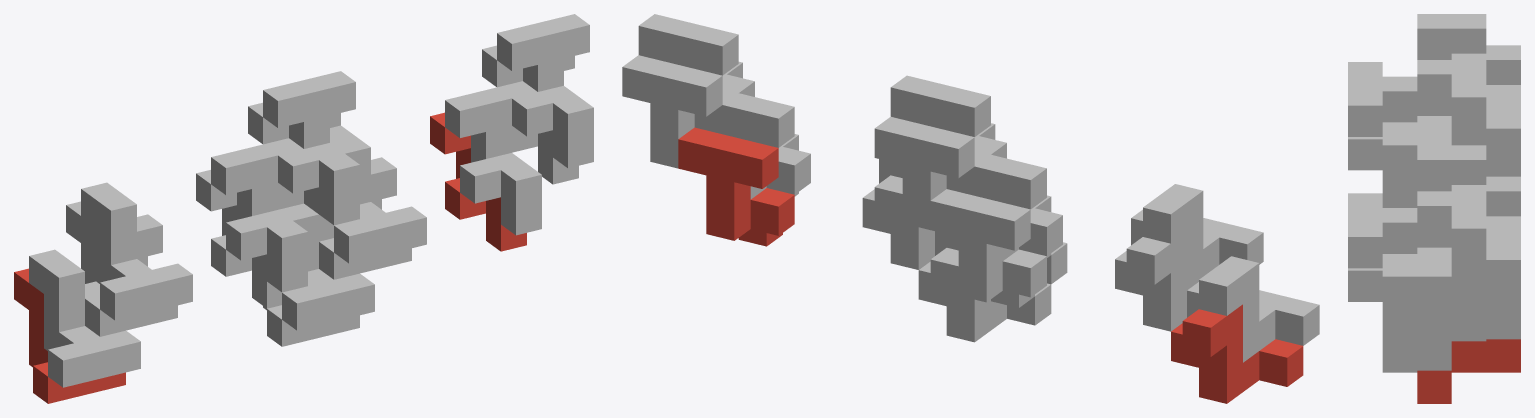
File: tiling.obj
The picture shows the model from 3 angles, left to right: view 1: azimuth 30°, elevation 25°; view 2: azimuth 150°, elevation 25°; view 3: azimuth 270°, elevation 25°; orthographic projection. The views are drawn at different scales.
Parts seen in each view (by area): view 1: copy_2_domain_8, copy_2_domain_4, copy_1_domain_4, copy_2_domain_2, copy_2_domain_6, copy_1_domain_2, copy_1_domain_8, copy_1_domain_6, copy_1_domain_1, copy_2_domain_5, copy_2_domain_1, copy_1_domain_3 (+4 smaller); view 2: copy_2_domain_5, copy_2_domain_1, copy_1_domain_1, copy_1_domain_2, copy_2_domain_3, copy_2_domain_7, copy_1_domain_4, copy_2_domain_2, copy_2_domain_6, copy_1_domain_3, copy_1_domain_5, copy_2_domain_4 (+3 smaller); view 3: copy_2_domain_8, copy_1_domain_8, copy_1_domain_4, copy_2_domain_7, copy_2_domain_4, copy_2_domain_5, copy_2_domain_3, copy_1_domain_3, copy_1_domain_7, copy_2_domain_6, copy_1_domain_2, copy_1_domain_6.
Part boxes in pixels (<box>): copy_2_domain_8: <box>497,14,593,168</box>; copy_2_domain_4: <box>263,71,359,225</box>; copy_1_domain_4: <box>81,182,192,320</box>; copy_2_domain_2: <box>211,138,307,292</box>; copy_2_domain_6: <box>445,81,541,235</box>; copy_1_domain_2: <box>29,249,140,387</box>; copy_1_domain_8: <box>330,125,426,263</box>; copy_1_domain_6: <box>278,203,374,330</box>; copy_1_domain_1: <box>14,268,125,403</box>; copy_2_domain_5: <box>430,112,526,251</box>; copy_2_domain_1: <box>196,170,281,308</box>; copy_1_domain_3: <box>66,201,177,336</box>; copy_2_domain_5: <box>678,127,794,246</box>; copy_2_domain_1: <box>930,189,1046,307</box>; copy_1_domain_1: <box>1171,304,1303,403</box>; copy_1_domain_2: <box>1187,256,1319,362</box>; copy_2_domain_3: <box>874,117,974,229</box>; copy_2_domain_7: <box>622,55,722,168</box>; copy_1_domain_4: <box>1131,184,1263,290</box>; copy_2_domain_2: <box>946,151,1062,260</box>; copy_2_domain_6: <box>694,89,810,199</box>; copy_1_domain_3: <box>1115,232,1186,331</box>; copy_1_domain_5: <box>918,248,1051,342</box>; copy_2_domain_4: <box>890,75,1006,158</box>; copy_2_domain_8: <box>1382,185,1486,339</box>; copy_1_domain_8: <box>1348,145,1486,268</box>; copy_1_domain_4: <box>1348,14,1486,136</box>; copy_2_domain_7: <box>1417,216,1520,370</box>; copy_2_domain_4: <box>1382,53,1486,207</box>; copy_2_domain_5: <box>1417,339,1520,403</box>; copy_2_domain_3: <box>1486,85,1520,176</box>; copy_1_domain_3: <box>1382,45,1520,130</box>; copy_1_domain_7: <box>1382,176,1520,261</box>; copy_2_domain_6: <box>1382,339,1486,372</box>; copy_1_domain_2: <box>1348,137,1382,170</box>; copy_1_domain_6: <box>1348,268,1382,301</box>.
Size of the model in its own units: 22 by 8 by 5.
